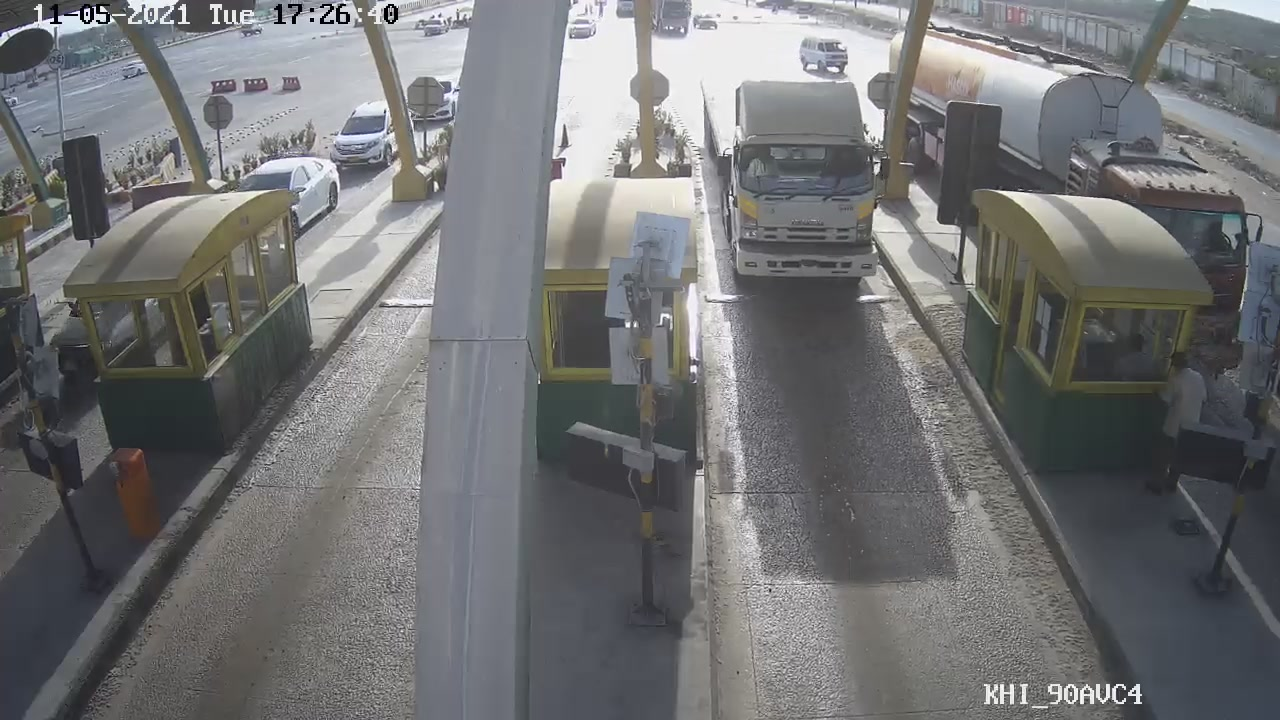F6: (696, 71, 892, 294)
